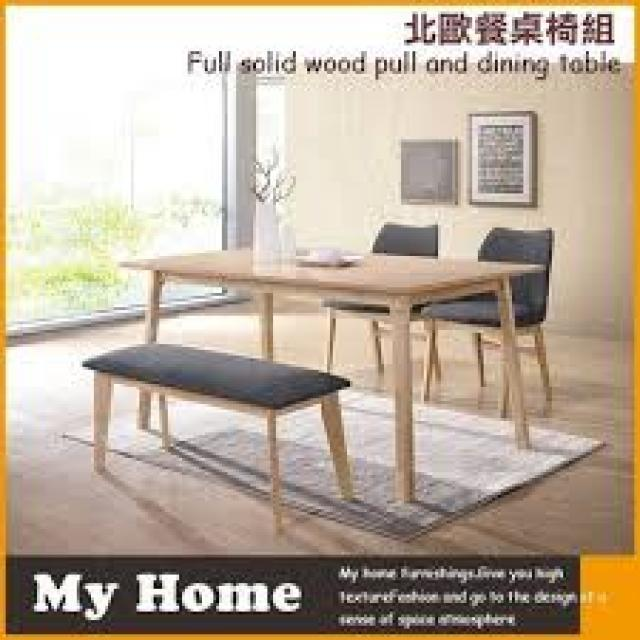table: (74, 206, 576, 536)
